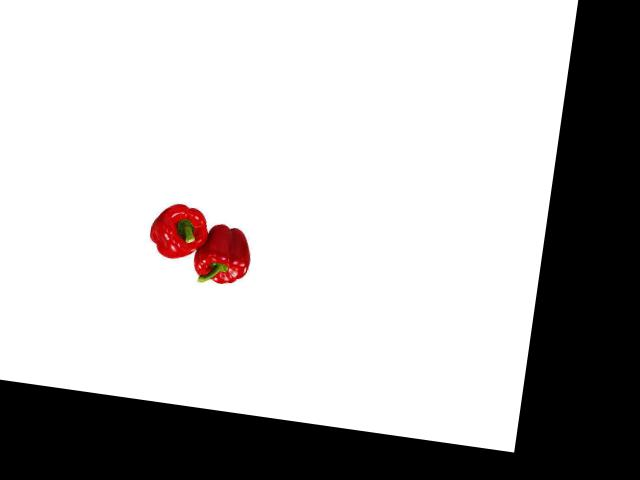bell_pepper: (189, 216, 256, 291)
